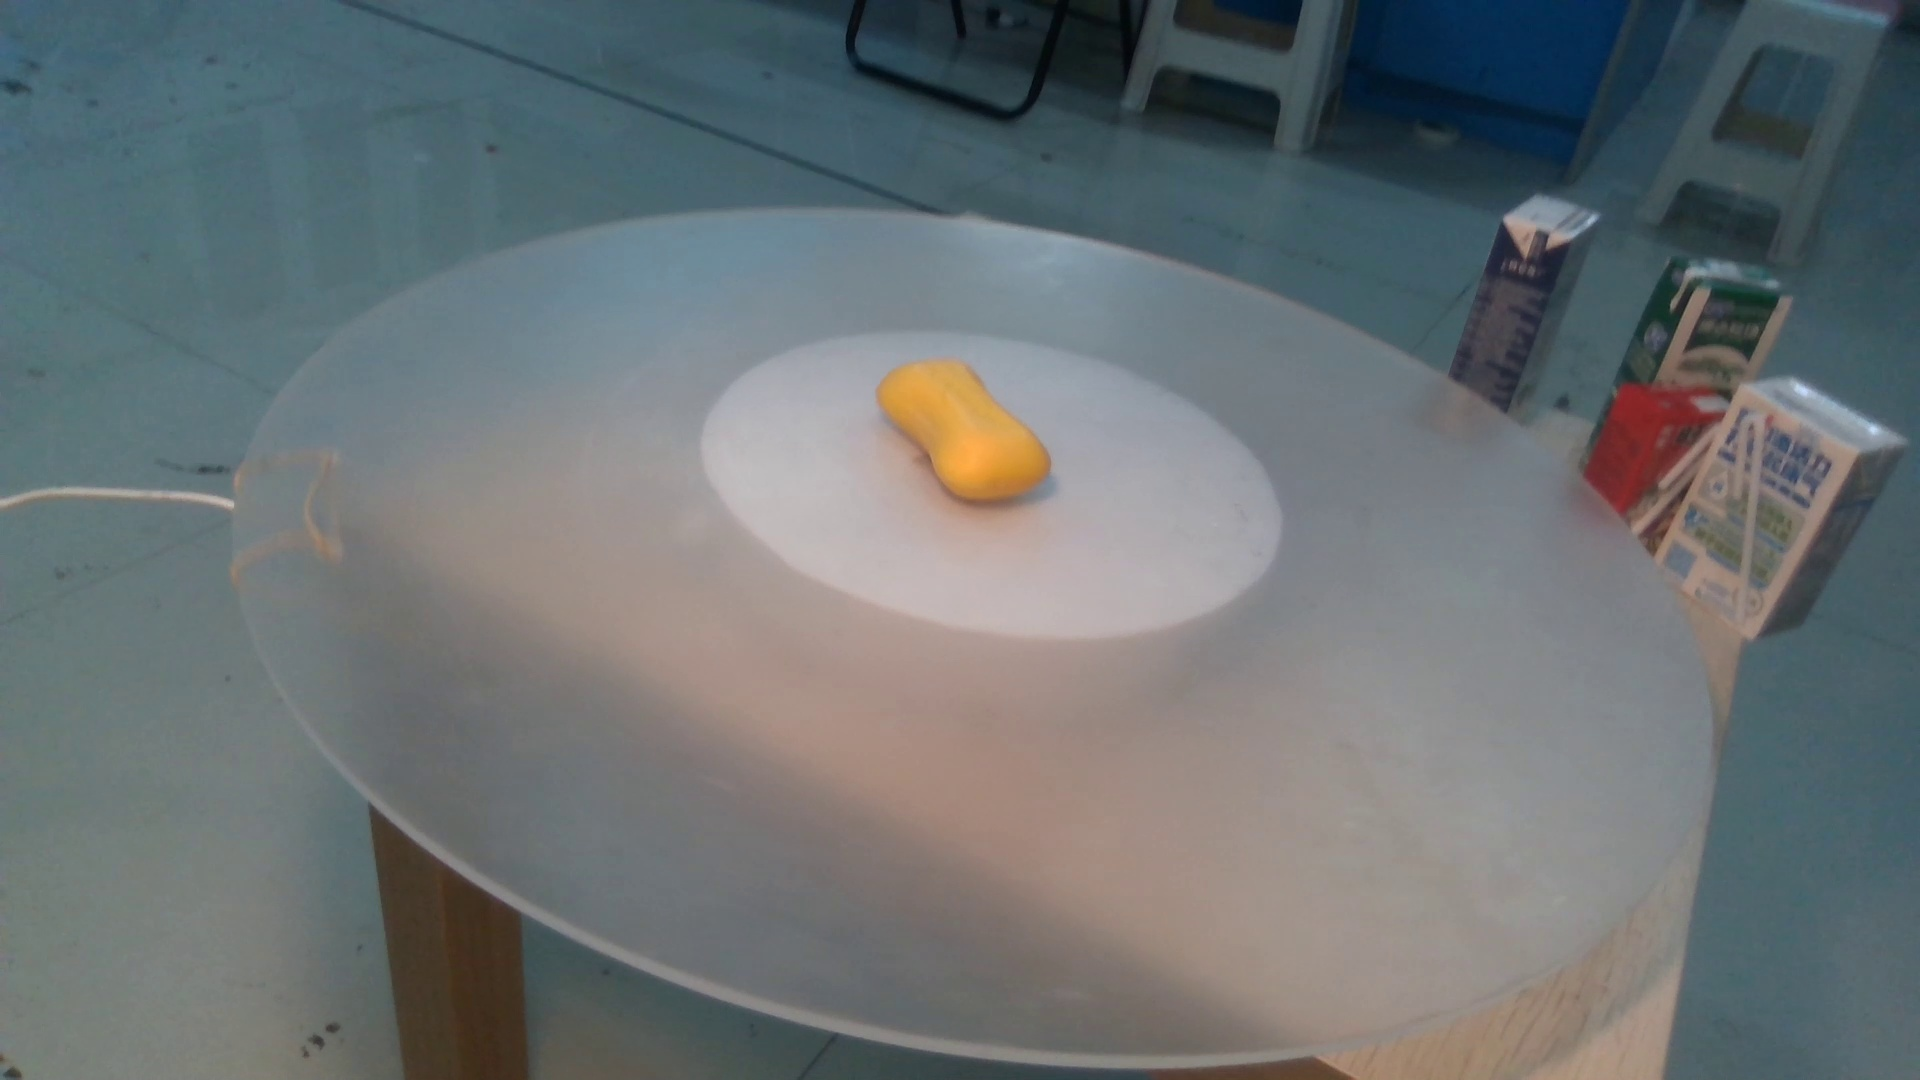CA003_1: (848, 345, 1116, 514)
